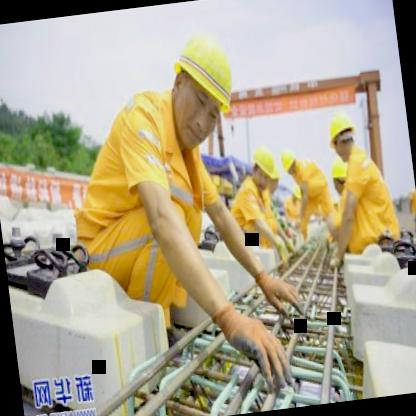helmet: (156, 18, 250, 157), (324, 108, 360, 166), (248, 140, 281, 193), (328, 148, 350, 198), (278, 147, 301, 179), (288, 182, 304, 203)
